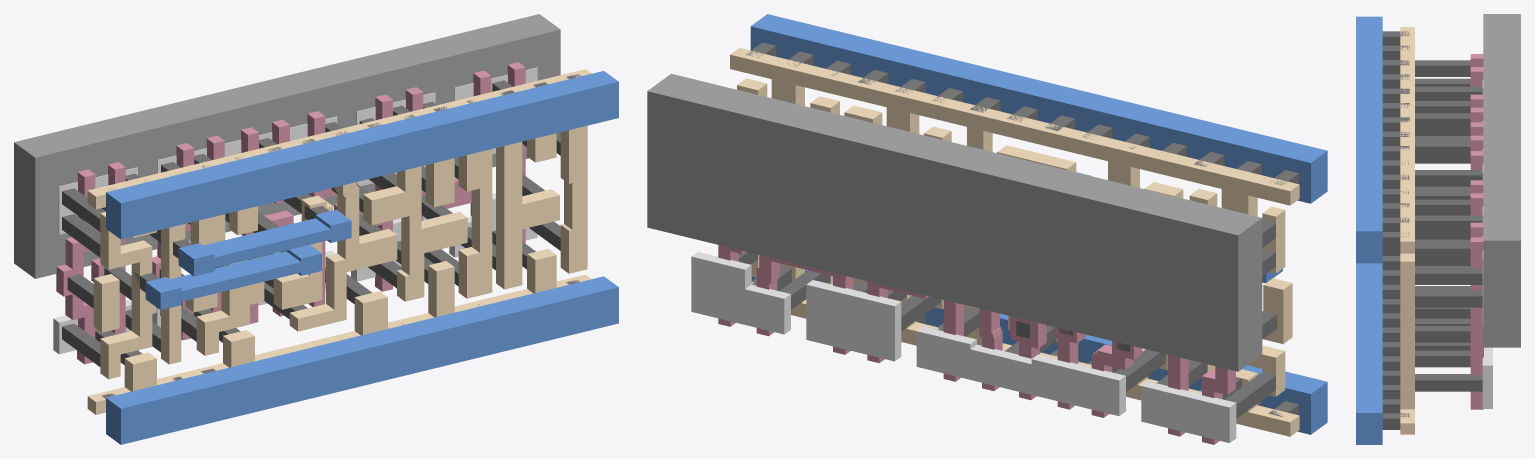
Rendered from sky130_fd_sc_hd__dlxbp_1.gds.gltf.
The picture shows the model from 3 angles, left to right: view 1: azimuth 30°, elevation 25°; view 2: azimuth 150°, elevation 25°; view 3: azimuth 270°, elevation 25°; orthographic projection. The views are drawn at different scales.
Visible parts, largest first — view 1: sky130_fd_sc_hd__dlxbp_1_met1, sky130_fd_sc_hd__dlxbp_1_li1, sky130_fd_sc_hd__dlxbp_1_nwell, sky130_fd_sc_hd__dlxbp_1_licon, sky130_fd_sc_hd__dlxbp_1_poly, sky130_fd_sc_hd__dlxbp_1_diff, sky130_fd_sc_hd__dlxbp_1_mcon; view 2: sky130_fd_sc_hd__dlxbp_1_nwell, sky130_fd_sc_hd__dlxbp_1_li1, sky130_fd_sc_hd__dlxbp_1_met1, sky130_fd_sc_hd__dlxbp_1_diff, sky130_fd_sc_hd__dlxbp_1_poly, sky130_fd_sc_hd__dlxbp_1_licon, sky130_fd_sc_hd__dlxbp_1_mcon; view 3: sky130_fd_sc_hd__dlxbp_1_licon, sky130_fd_sc_hd__dlxbp_1_nwell, sky130_fd_sc_hd__dlxbp_1_met1, sky130_fd_sc_hd__dlxbp_1_mcon, sky130_fd_sc_hd__dlxbp_1_li1, sky130_fd_sc_hd__dlxbp_1_poly, sky130_fd_sc_hd__dlxbp_1_diff.
Boxes of the visible parts, x1=… form: sky130_fd_sc_hd__dlxbp_1_met1: x1=106, y1=71, x2=618, y2=444; sky130_fd_sc_hd__dlxbp_1_li1: x1=87, y1=69, x2=591, y2=414; sky130_fd_sc_hd__dlxbp_1_nwell: x1=14, y1=14, x2=560, y2=278; sky130_fd_sc_hd__dlxbp_1_licon: x1=62, y1=80, x2=560, y2=366; sky130_fd_sc_hd__dlxbp_1_poly: x1=56, y1=62, x2=525, y2=364; sky130_fd_sc_hd__dlxbp_1_diff: x1=53, y1=67, x2=537, y2=354; sky130_fd_sc_hd__dlxbp_1_mcon: x1=101, y1=74, x2=580, y2=398; sky130_fd_sc_hd__dlxbp_1_nwell: x1=647, y1=73, x2=1262, y2=371; sky130_fd_sc_hd__dlxbp_1_li1: x1=730, y1=48, x2=1299, y2=436; sky130_fd_sc_hd__dlxbp_1_met1: x1=750, y1=14, x2=1327, y2=434; sky130_fd_sc_hd__dlxbp_1_diff: x1=691, y1=252, x2=1236, y2=442; sky130_fd_sc_hd__dlxbp_1_poly: x1=718, y1=245, x2=1235, y2=444; sky130_fd_sc_hd__dlxbp_1_licon: x1=738, y1=98, x2=1277, y2=418; sky130_fd_sc_hd__dlxbp_1_mcon: x1=746, y1=42, x2=1298, y2=416; sky130_fd_sc_hd__dlxbp_1_licon: x1=1415, y1=60, x2=1482, y2=391; sky130_fd_sc_hd__dlxbp_1_nwell: x1=1483, y1=14, x2=1520, y2=347; sky130_fd_sc_hd__dlxbp_1_met1: x1=1356, y1=16, x2=1382, y2=444; sky130_fd_sc_hd__dlxbp_1_mcon: x1=1382, y1=31, x2=1409, y2=429; sky130_fd_sc_hd__dlxbp_1_li1: x1=1400, y1=27, x2=1414, y2=434; sky130_fd_sc_hd__dlxbp_1_poly: x1=1470, y1=54, x2=1483, y2=409; sky130_fd_sc_hd__dlxbp_1_diff: x1=1482, y1=80, x2=1492, y2=408.
Bounding box in the file's own units: 7.28 × 3.2 × 2.24.
